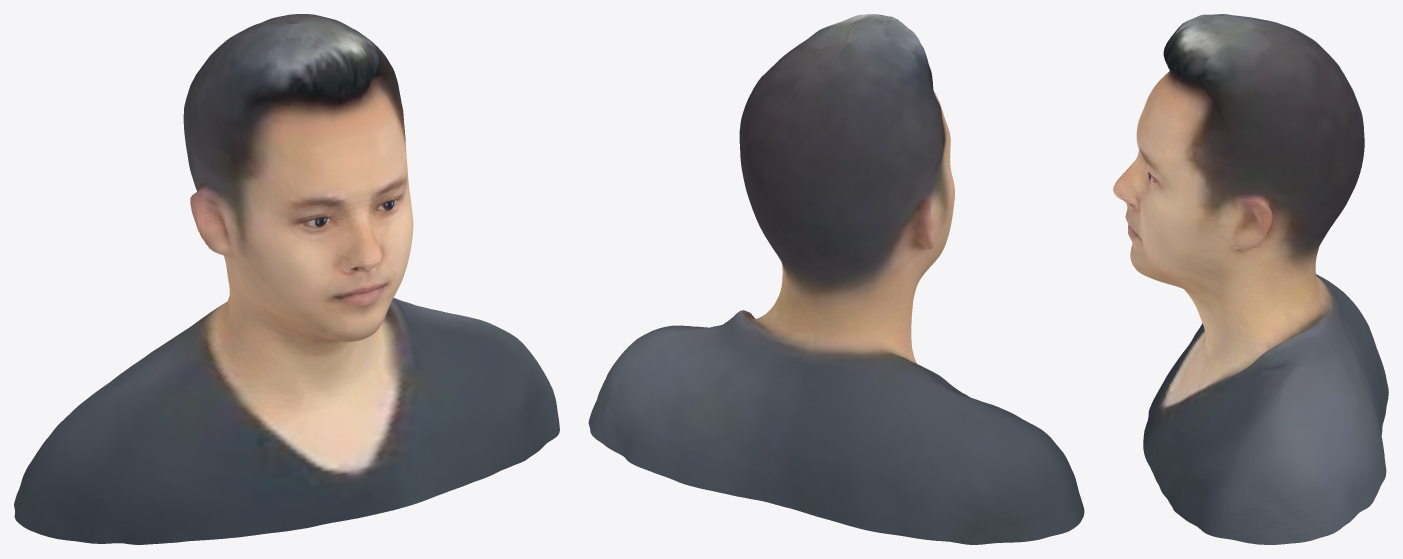
Rendered from 真人头像_男_青年03_opt.glb.
3 renders of one model, left to right at view 1: azimuth 30°, elevation 25°; view 2: azimuth 150°, elevation 25°; view 3: azimuth 270°, elevation 25°, orthographic. The views are drawn at different scales.
Parts seen in each view (by area): view 1: Object_2; view 2: Object_2; view 3: Object_2.
Boxes of the visible parts, x1,y1,x2,y2 form: Object_2: (14,14,559,544); Object_2: (588,14,1084,544); Object_2: (1113,14,1388,544).
Bounding box in the file's own units: 0.3569 × 0.3 × 0.1829.
Materials: 1 (1 with a texture image).
